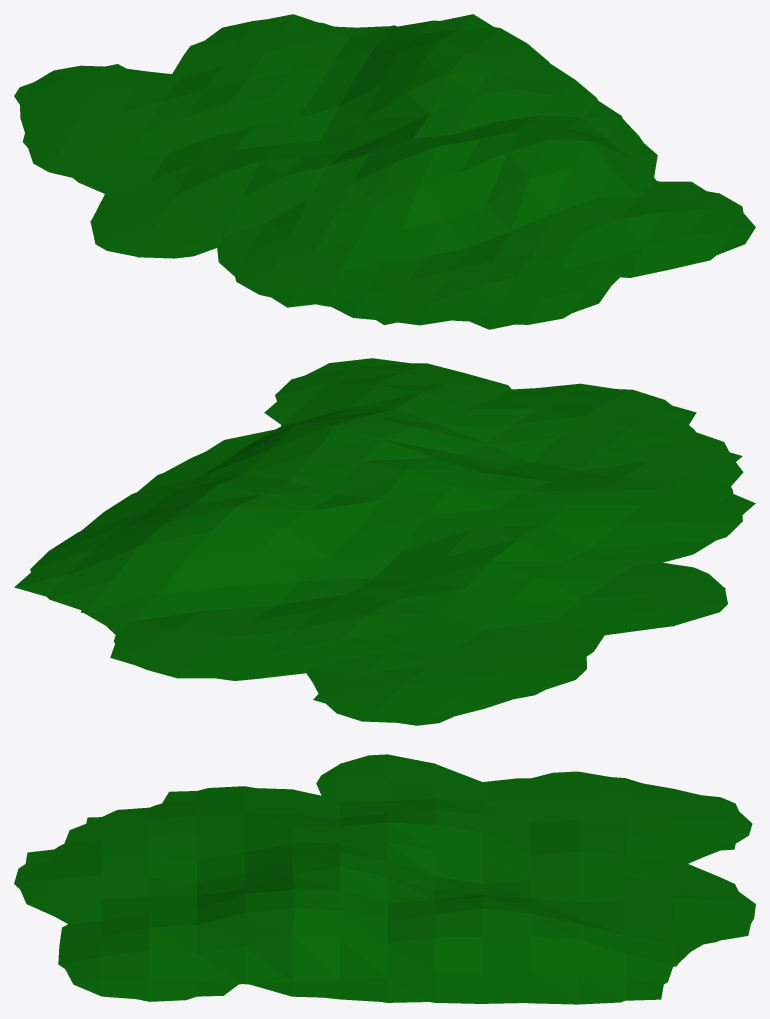
Rendered from Proto_Terrain_Mound_02.fbx.
3 views of the same model, one above another, from view 1: azimuth 30°, elevation 25°; view 2: azimuth 150°, elevation 25°; view 3: azimuth 270°, elevation 25° (orthographic). The views are drawn at different scales.
Visible parts, largest first — view 1: Proto_Terrain_Mound_02; view 2: Proto_Terrain_Mound_02; view 3: Proto_Terrain_Mound_02.
Boxes of the visible parts, left/top/right/bottom form: Proto_Terrain_Mound_02: left=14, top=14, right=755, bottom=329; Proto_Terrain_Mound_02: left=14, top=358, right=755, bottom=725; Proto_Terrain_Mound_02: left=14, top=754, right=755, bottom=1004.
Bounding box in the file's own units: 11.75 × 0.8607 × 14.73.
